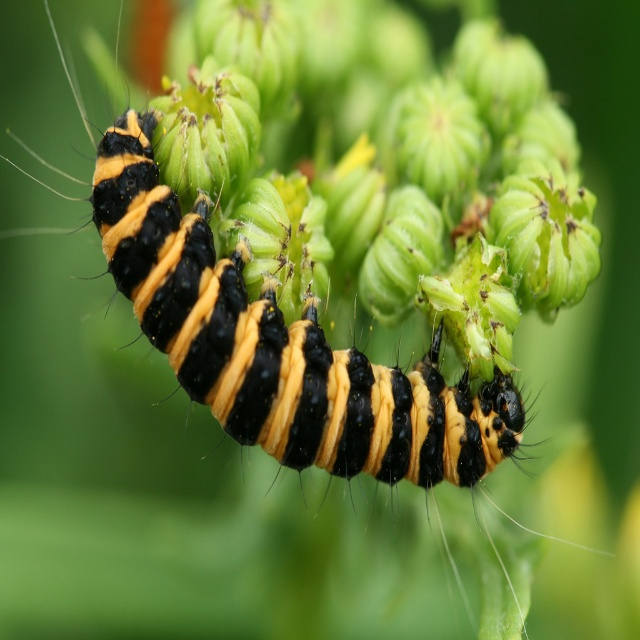Caterpillar: (0, 0, 616, 639)
